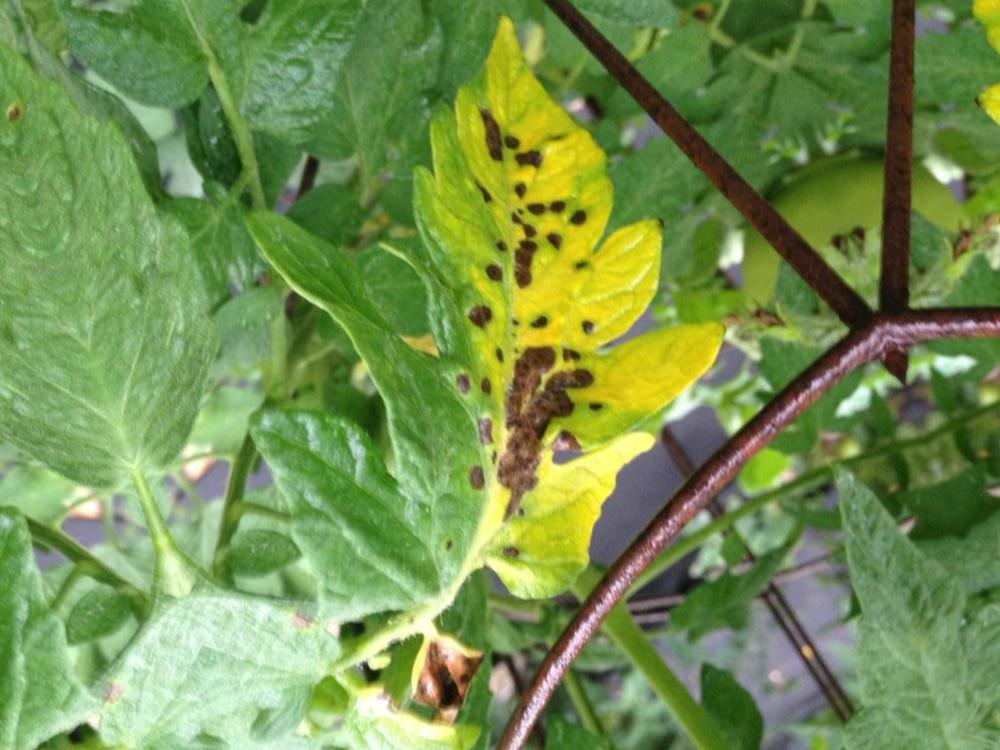Tomato leaf bacterial spot: (270, 0, 800, 641)
